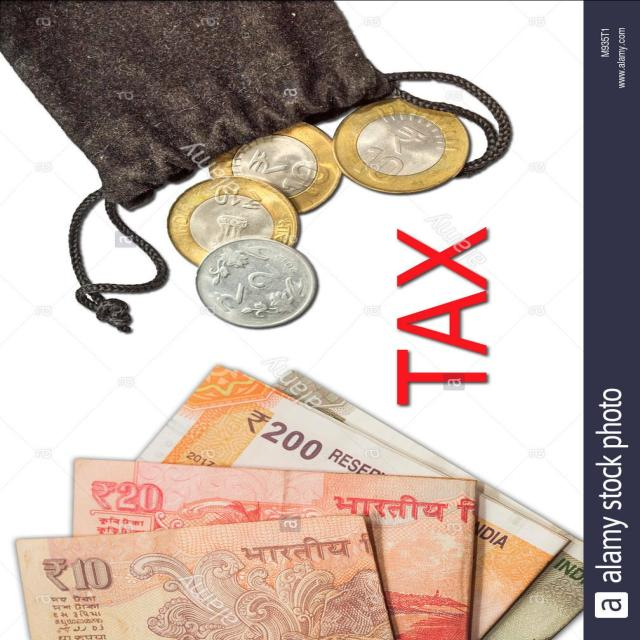10IndianRupees: (11, 526, 385, 638)
